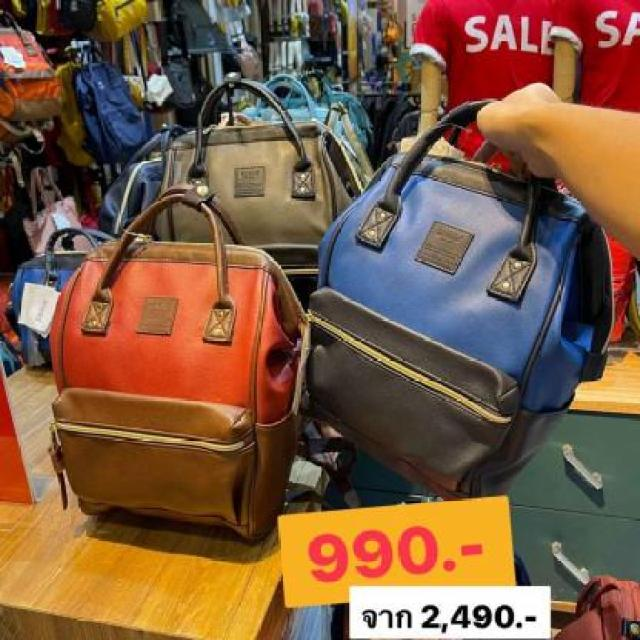Bag: (292, 49, 640, 529), (44, 182, 307, 576)
